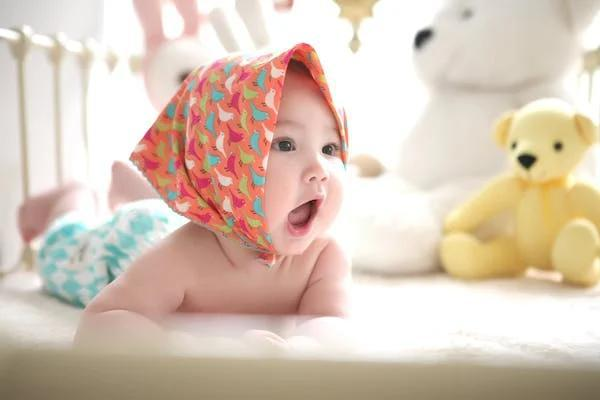child: (70, 46, 372, 361)
